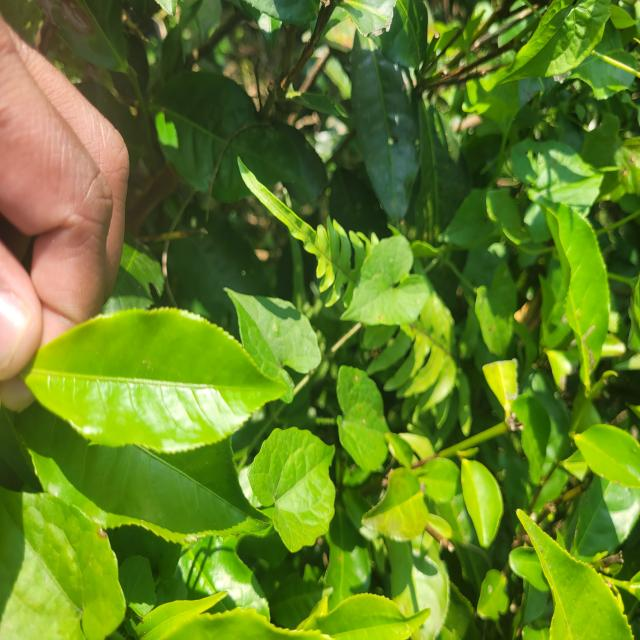Catagory A 1-2 days: (16, 281, 305, 464)
